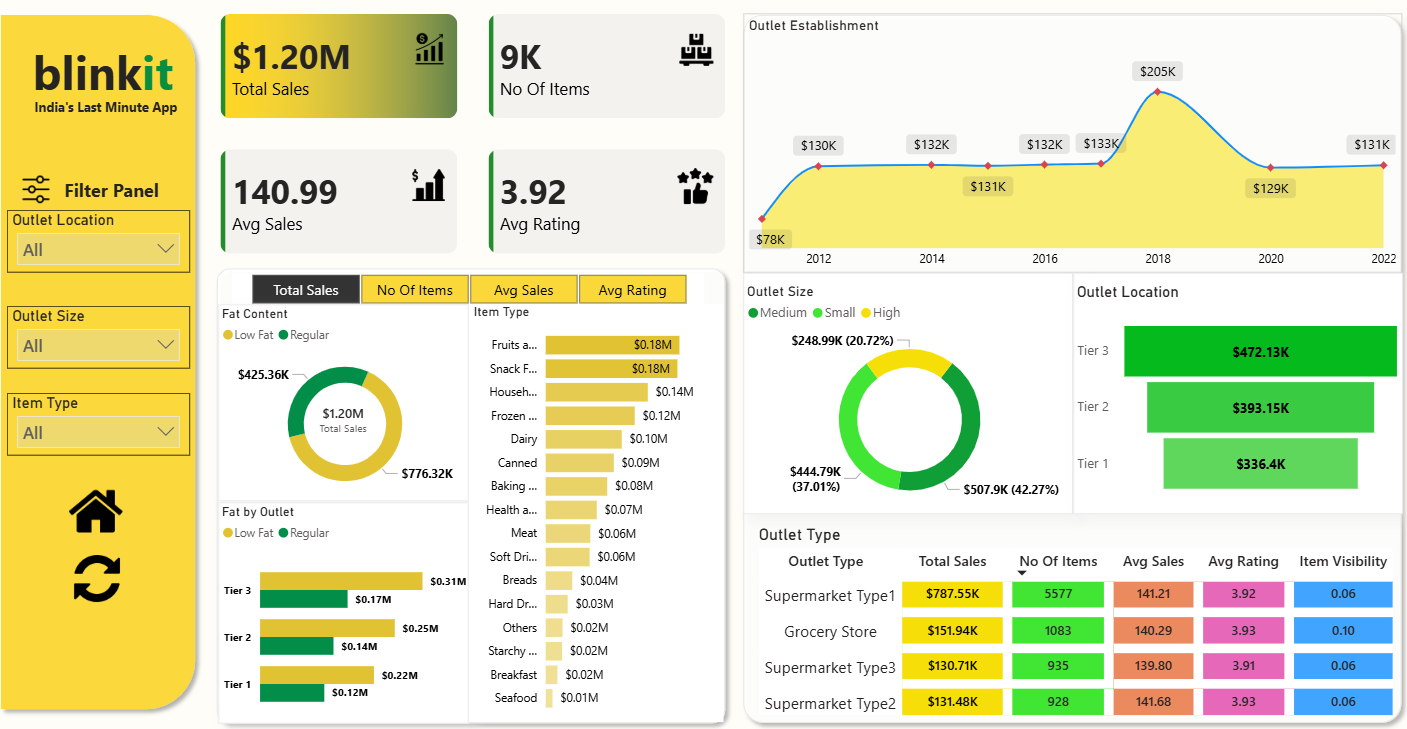

Layout of this report page (visuals, bound fields, positions):
{"tool":"powerbi","page":{"name":"Page 1","canvas":[1480,780],"ordinal":0},"visuals":[{"type":"shape","box":[771.1,22.1,699,750.6],"z":0,"group":"g1"},{"type":"shape","box":[3.2,22.1,219.2,736.4],"z":1000},{"type":"textbox","box":[31.5,112,179.8,30],"z":2000},{"type":"textbox","box":[41,50.5,167.1,75.7],"z":3000},{"type":"cardVisual","fields":{"Data":["BlinkIT Grocery Data.Total Sales","BlinkIT Grocery Data.No Of Items","BlinkIT Grocery Data.Avg Sales","BlinkIT Grocery Data.Avg Rating"]},"box":[222.9,14,555.7,280],"z":4000},{"type":"shape","box":[227.1,283.8,544,488.8],"z":5000,"group":"g2"},{"type":"slicer","fields":{"Values":["Metrics.Metrics"]},"box":[252.3,298,488.8,33.1],"z":6000,"group":"g2"},{"type":"donutChart","title":"Fat Content","fields":{"Y":["BlinkIT Grocery Data.Total Sales"],"Category":["BlinkIT Grocery Data.Item Fat Content"]},"box":[238.1,331.1,258.6,203.4],"z":7000,"group":"g2"},{"type":"clusteredBarChart","title":"Fat by Outlet ","fields":{"Y":["BlinkIT Grocery Data.Total Sales"],"Category":["BlinkIT Grocery Data.Outlet Location Type"],"Series":["BlinkIT Grocery Data.Item Fat Content"]},"box":[238.1,534.5,258.6,228.6],"z":8000,"group":"g2"},{"type":"barChart","title":" Item Type","fields":{"Y":["BlinkIT Grocery Data.Total Sales"],"Category":["BlinkIT Grocery Data.Item Type"]},"box":[496.7,331.1,263.3,432.1],"z":9000,"group":"g2"},{"type":"lineChart","title":" Outlet Establishment ","fields":{"Category":["BlinkIT Grocery Data.Outlet Establishment Year"],"Y":["BlinkIT Grocery Data.Total Sales"]},"box":[780.6,30,681.2,268.1],"z":10000,"group":"g1"},{"type":"donutChart","title":" Outlet Size","fields":{"Category":["BlinkIT Grocery Data.Outlet Size"],"Y":["BlinkIT Grocery Data.Total Sales"]},"box":[780.6,298,340.6,249.1],"z":11000,"group":"g1"},{"type":"funnel","title":" Outlet Location","fields":{"Category":["BlinkIT Grocery Data.Outlet Location Type"],"Y":["BlinkIT Grocery Data.Total Sales"]},"box":[1121.2,298,340.6,249.1],"z":11001,"group":"g1"},{"type":"pivotTable","title":"Outlet Type","fields":{"Rows":["BlinkIT Grocery Data.Outlet Type"],"Values":["BlinkIT Grocery Data.Total Sales","BlinkIT Grocery Data.No Of Items","BlinkIT Grocery Data.Avg Sales","BlinkIT Grocery Data.Avg Rating","Avg(BlinkIT Grocery Data.Item Visibility)"]},"box":[791,559,668,212.9],"z":11002,"group":"g1"},{"type":"group","id":"g1","title":"Group 1","box":[771.1,22.1,699,750.6],"z":11003},{"type":"group","id":"g2","title":"Group 2","box":[227.1,283.8,544,488.8],"z":11004},{"type":"cardVisual","fields":{"Data":["BlinkIT Grocery Data.Total Sales"]},"box":[326.4,422.6,82,55.2],"z":11005},{"type":"slicer","title":"Outlet Location","fields":{"Values":["BlinkIT Grocery Data.Outlet Location Type"]},"box":[18.9,233.4,189.2,64.7],"z":11006},{"type":"slicer","title":"Outlet Size","fields":{"Values":["BlinkIT Grocery Data.Outlet Size"]},"box":[18.9,332.7,189.2,64.7],"z":11007},{"type":"slicer","title":"Item Type","fields":{"Values":["BlinkIT Grocery Data.Item Type"]},"box":[18.9,422.6,189.2,64.7],"z":11008},{"type":"image","box":[18.9,197.1,59.9,28.4],"z":11009},{"type":"textbox","box":[72.5,194,129.3,34.7],"z":11010},{"type":"image","box":[47.8,516.2,124.6,55.2],"z":11011},{"type":"image","box":[52,590.3,118.3,48.4],"z":11012}]}

Visuals, with their boxes in screenshot pixels (x1, y1, x2, y2), scaled from the page's 1480x780 canvas onto the 1407x729 screenshot:
shape: BBox(733, 21, 1398, 722)
shape: BBox(3, 21, 211, 709)
textbox: BBox(30, 105, 201, 133)
textbox: BBox(39, 47, 198, 118)
cardVisual - BlinkIT Grocery Data.Total Sales x BlinkIT Grocery Data.No Of Items: BBox(212, 13, 740, 275)
shape: BBox(216, 265, 733, 722)
slicer - Metrics.Metrics: BBox(240, 279, 705, 309)
"Fat Content" donutChart: BBox(226, 309, 472, 500)
"Fat by Outlet " clusteredBarChart: BBox(226, 500, 472, 713)
" Item Type" barChart: BBox(472, 309, 723, 713)
" Outlet Establishment " lineChart: BBox(742, 28, 1390, 279)
" Outlet Size" donutChart: BBox(742, 279, 1066, 511)
" Outlet Location" funnel: BBox(1066, 279, 1390, 511)
"Outlet Type" pivotTable: BBox(752, 522, 1387, 721)
"Group 1" group: BBox(733, 21, 1398, 722)
"Group 2" group: BBox(216, 265, 733, 722)
cardVisual - BlinkIT Grocery Data.Total Sales: BBox(310, 395, 388, 447)
"Outlet Location" slicer: BBox(18, 218, 198, 279)
"Outlet Size" slicer: BBox(18, 311, 198, 371)
"Item Type" slicer: BBox(18, 395, 198, 455)
image: BBox(18, 184, 75, 211)
textbox: BBox(69, 181, 192, 214)
image: BBox(45, 482, 164, 534)
image: BBox(49, 552, 162, 597)
